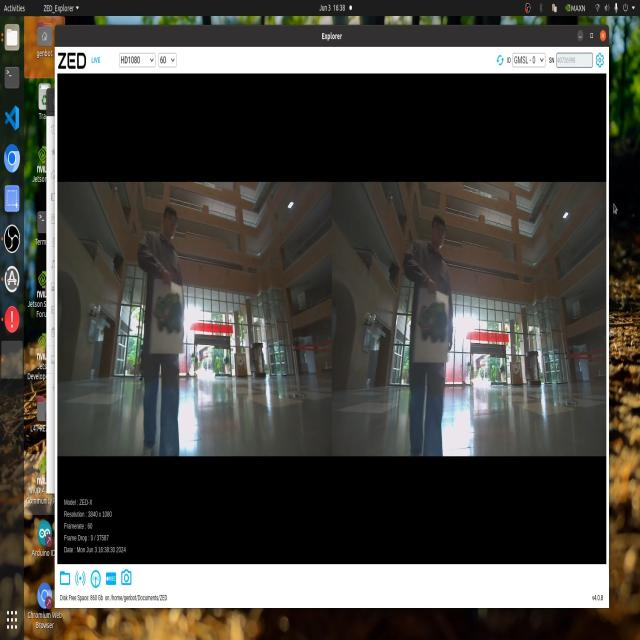green: (418, 294, 461, 355), (153, 286, 181, 336)
